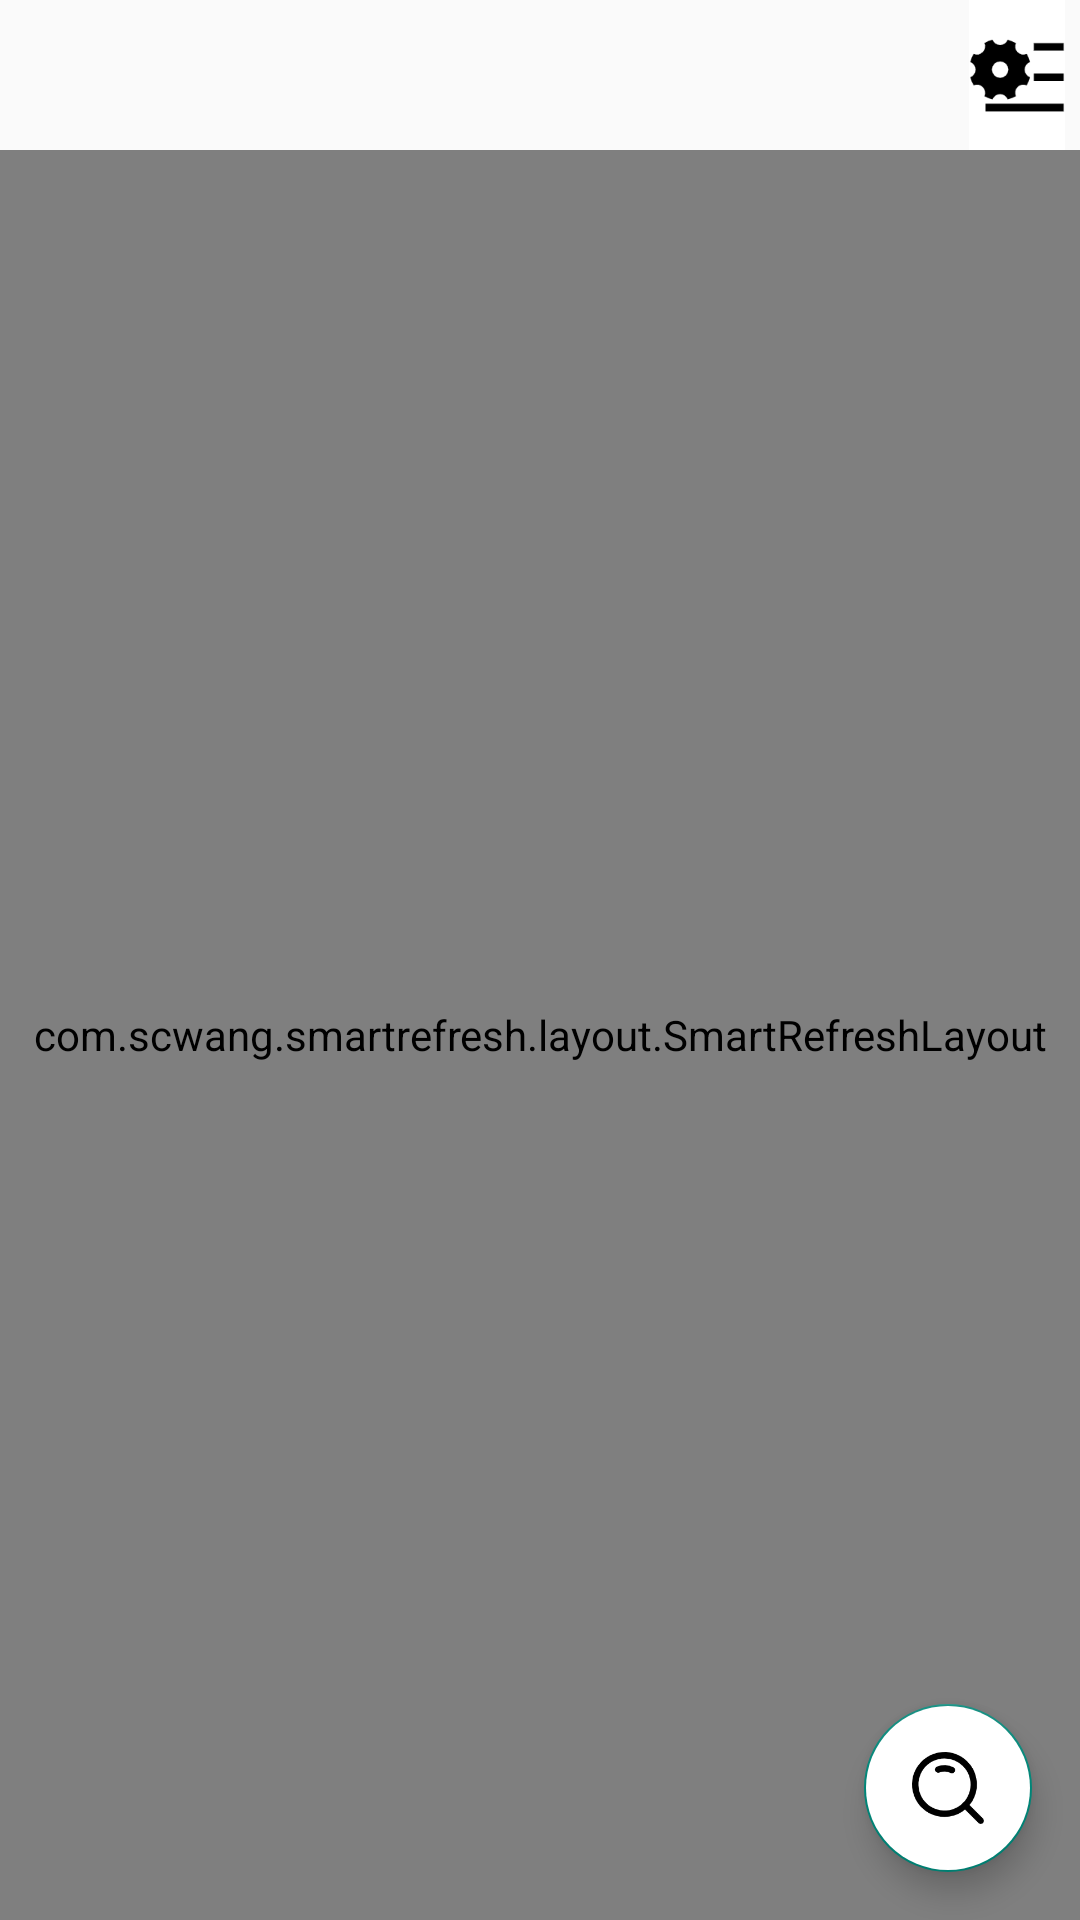

Named icons in this screenshot (1080x1920) and their centers, [x,y]:
search: [948,1788]
